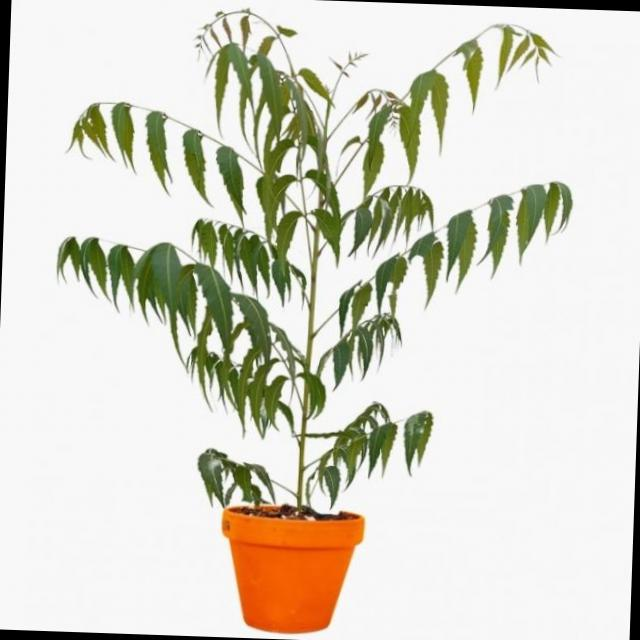Medicinal-Neem: (44, 1, 580, 520)
